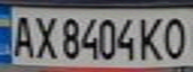0: (97, 15, 118, 61)
4: (115, 15, 139, 61), (78, 15, 100, 61)
8: (57, 14, 81, 61)
A: (6, 11, 36, 60)
K: (136, 14, 169, 62)
O: (160, 12, 190, 61)
X: (30, 12, 60, 61)
